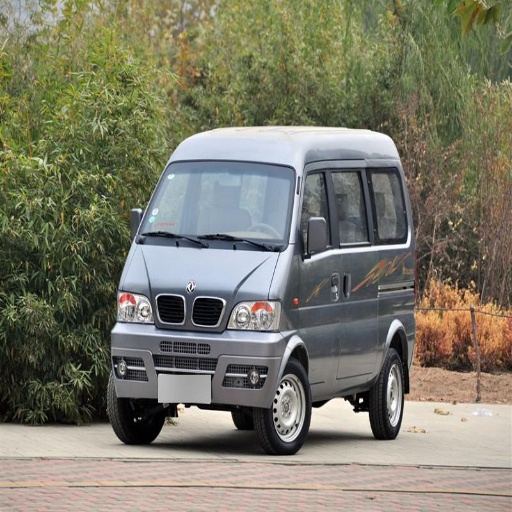front_bumper: (114, 291, 289, 405)
front_glass: (139, 160, 294, 251)
front_left_door: (296, 167, 345, 384)
trunk: (380, 288, 411, 340)
